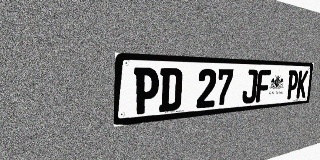2: (196, 69, 217, 108)
7: (215, 69, 234, 107)
D: (159, 68, 183, 112)
F: (255, 70, 271, 103)
J: (241, 69, 258, 104)
K: (296, 70, 308, 98)
P: (133, 67, 160, 115), (286, 70, 299, 99)
